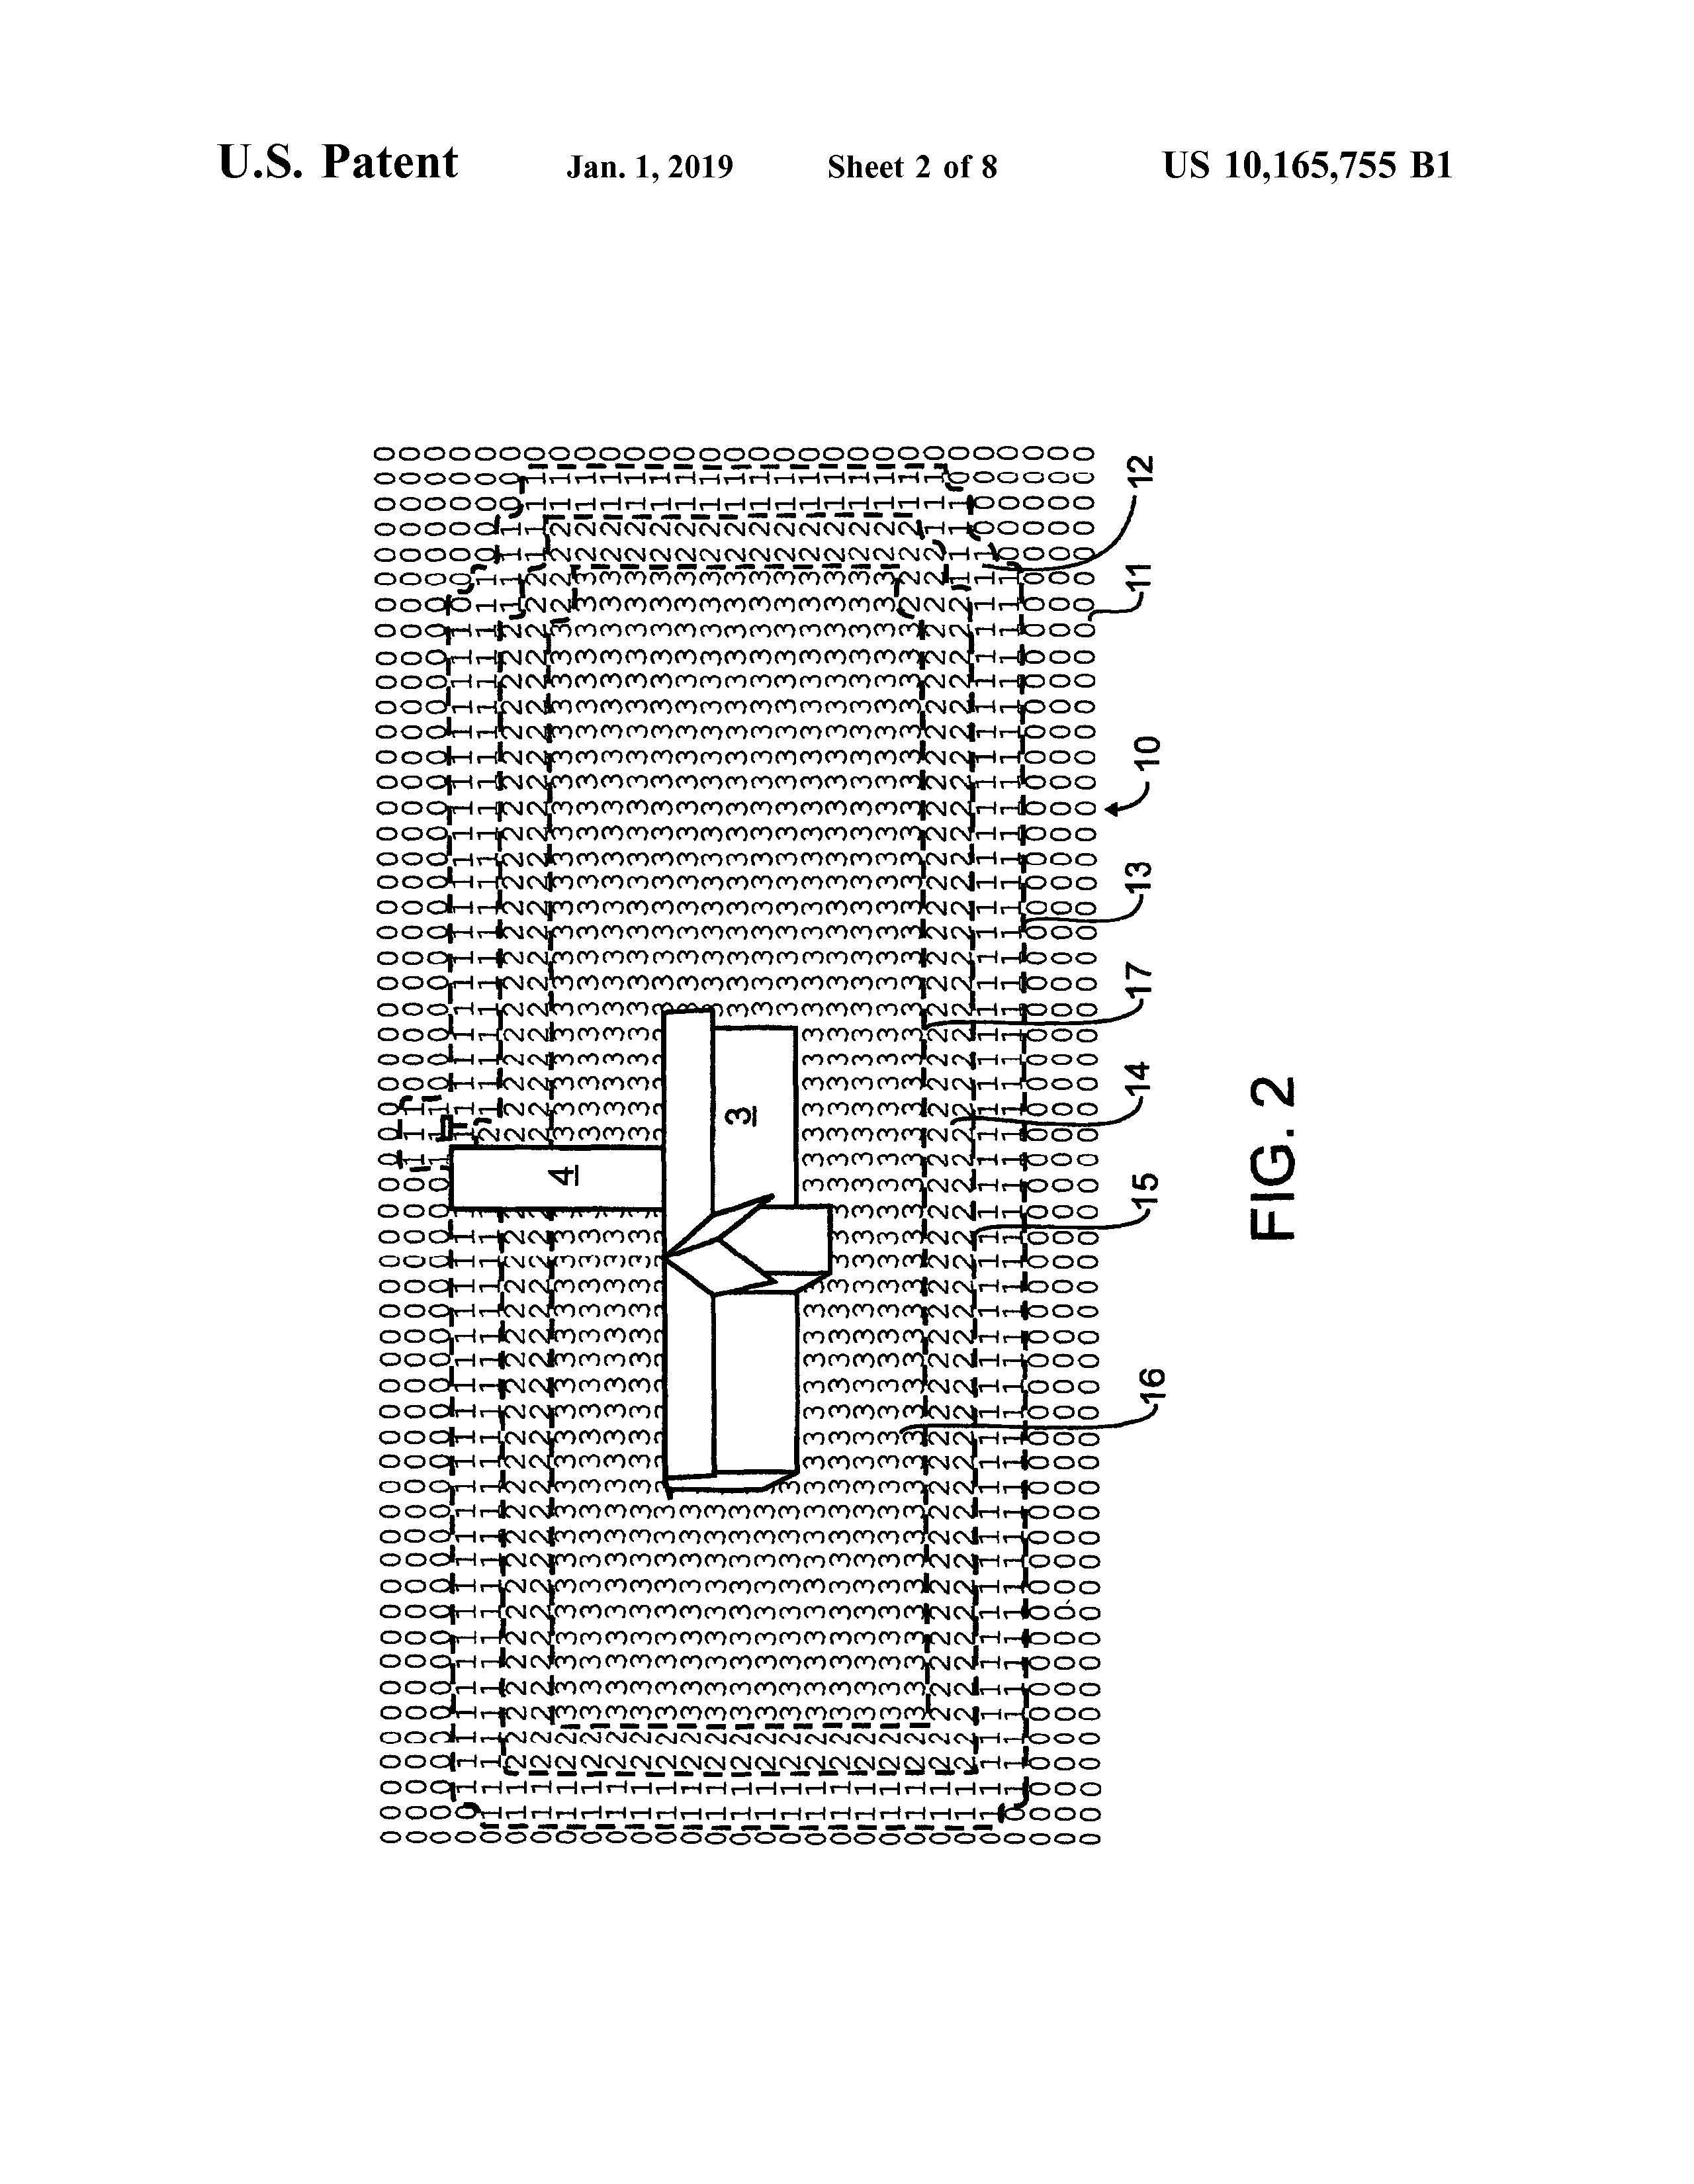patent image: (314, 405, 1356, 1884)
